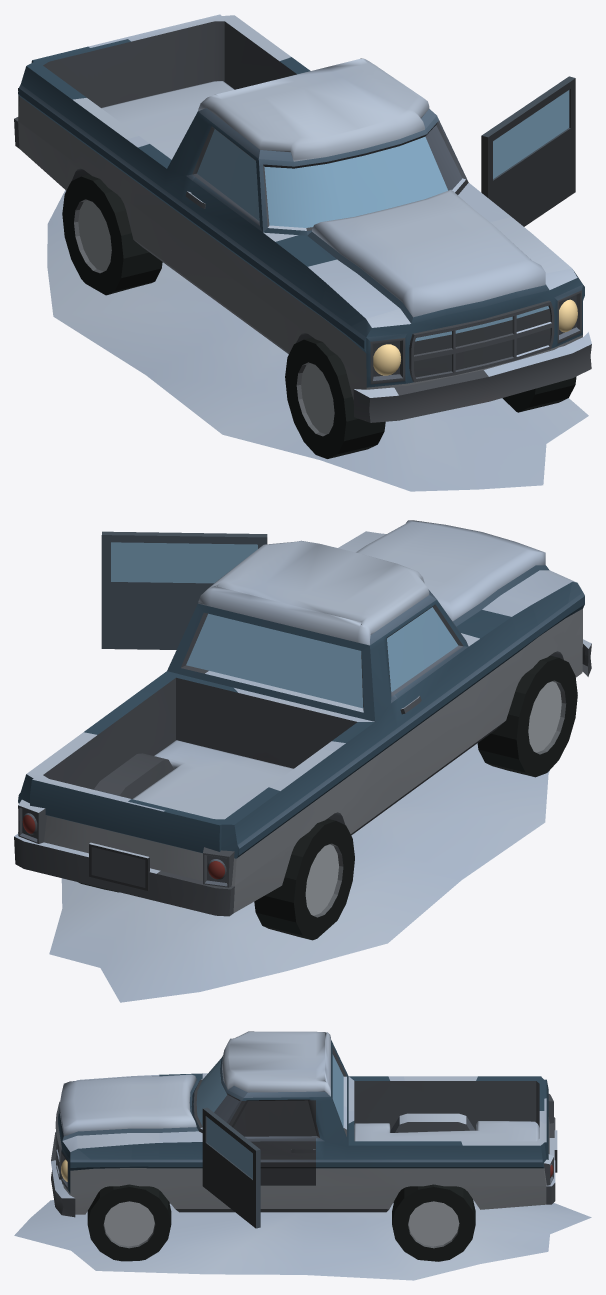
Rendered from pickup_doors.glb.
The picture shows the model from 3 angles, top to bottom: view 1: azimuth 30°, elevation 25°; view 2: azimuth 150°, elevation 25°; view 3: azimuth 270°, elevation 25°; orthographic projection. The views are drawn at different scales.
Visible parts, largest first — view 1: Body, Glass; view 2: Body, Glass; view 3: Body, Glass.
Boxes of the visible parts, bbox=[...] form: Body: bbox=[14, 14, 591, 491]; Glass: bbox=[197, 90, 569, 341]; Body: bbox=[14, 520, 591, 1002]; Glass: bbox=[111, 542, 458, 708]; Body: bbox=[14, 1031, 591, 1280]; Glass: bbox=[196, 1054, 343, 1178].
Bounding box in the file's own units: 3.53 × 2.09 × 6.39.
